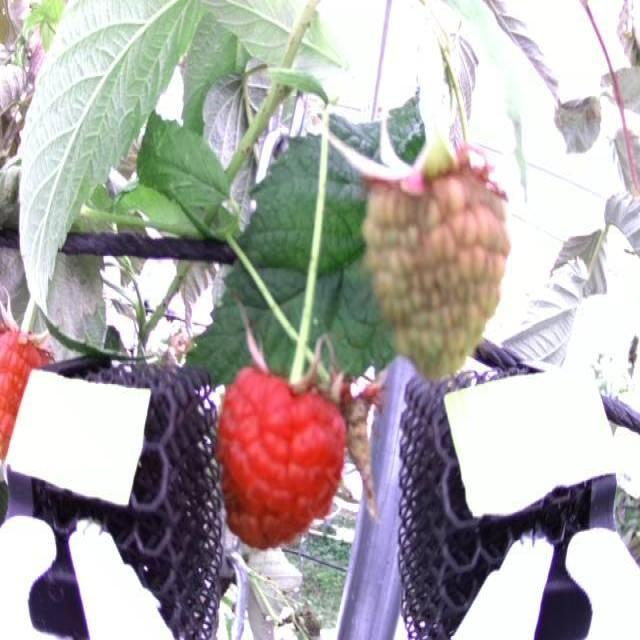Riped berries: (214, 362, 349, 550), (0, 321, 50, 448)
